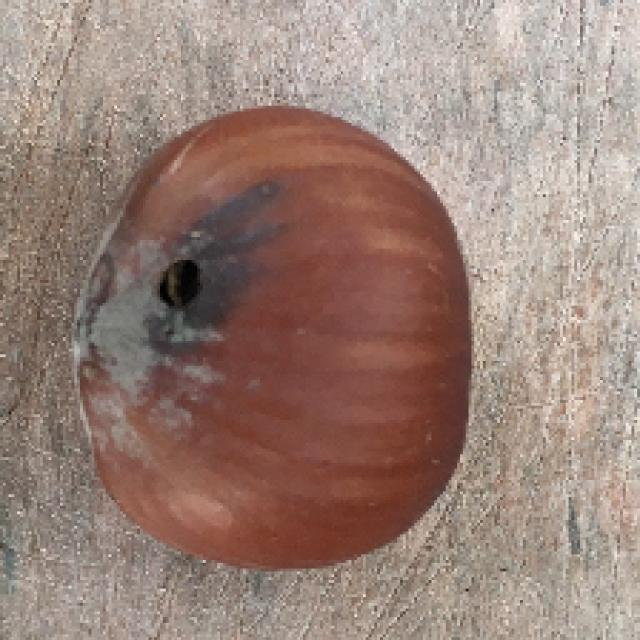damagedHazelnut: (70, 81, 487, 570)
